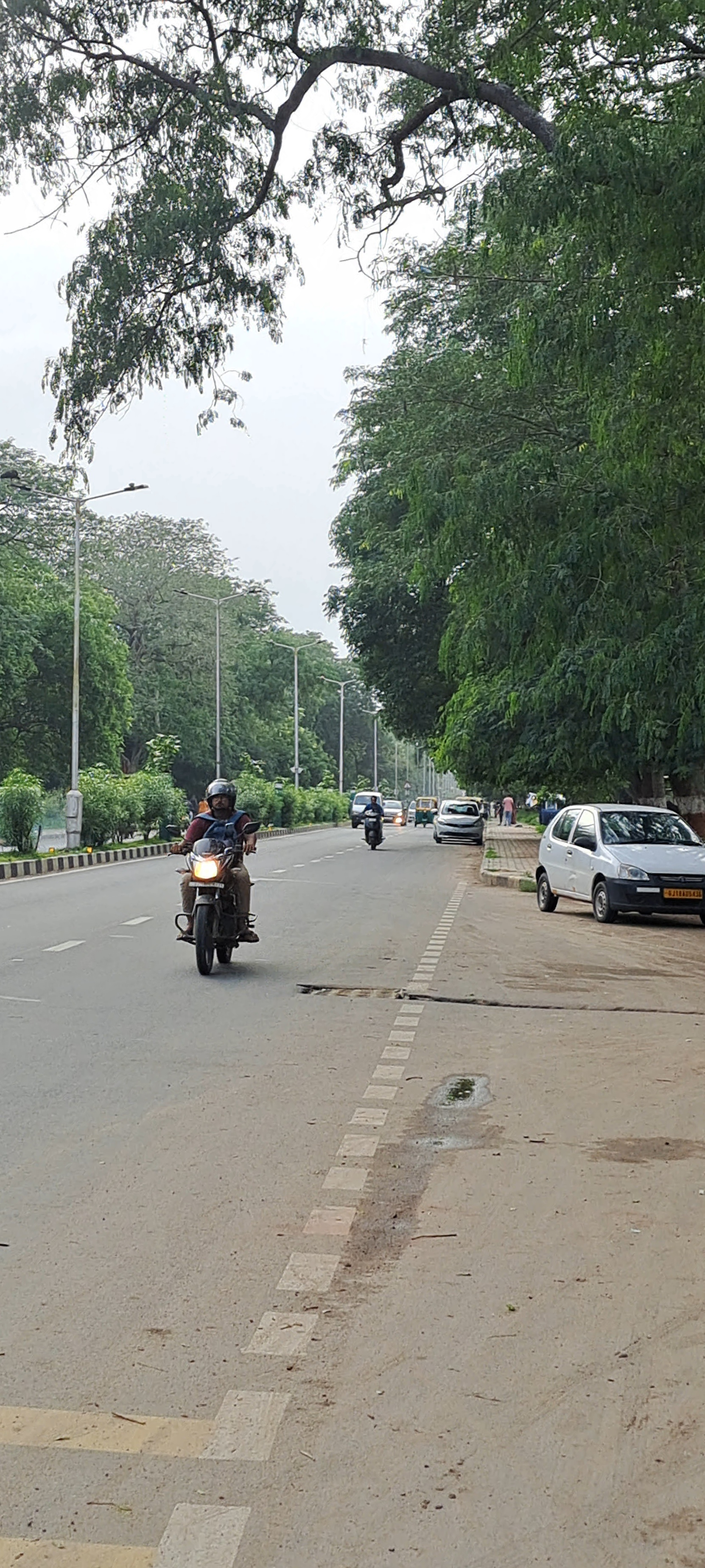BikeWithRider: (166, 771, 266, 982), (356, 786, 390, 853)
Helmet: (202, 775, 238, 817)
